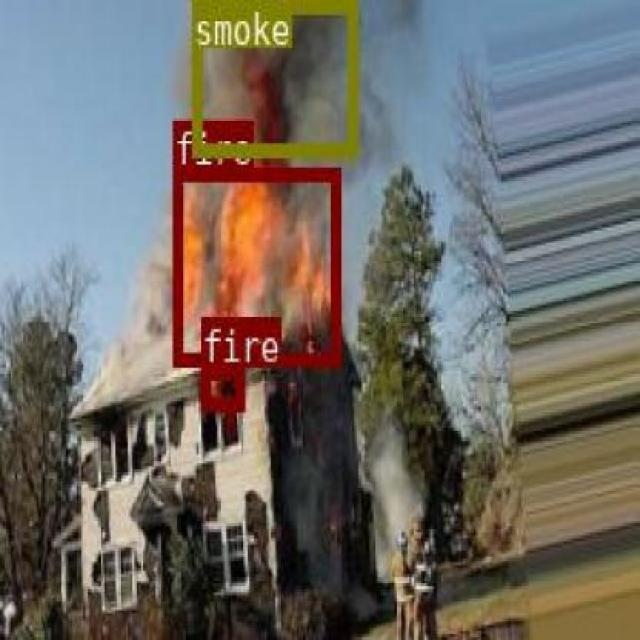Fire: (172, 168, 337, 364), (200, 362, 243, 407)
Smoke: (190, 0, 355, 152)
